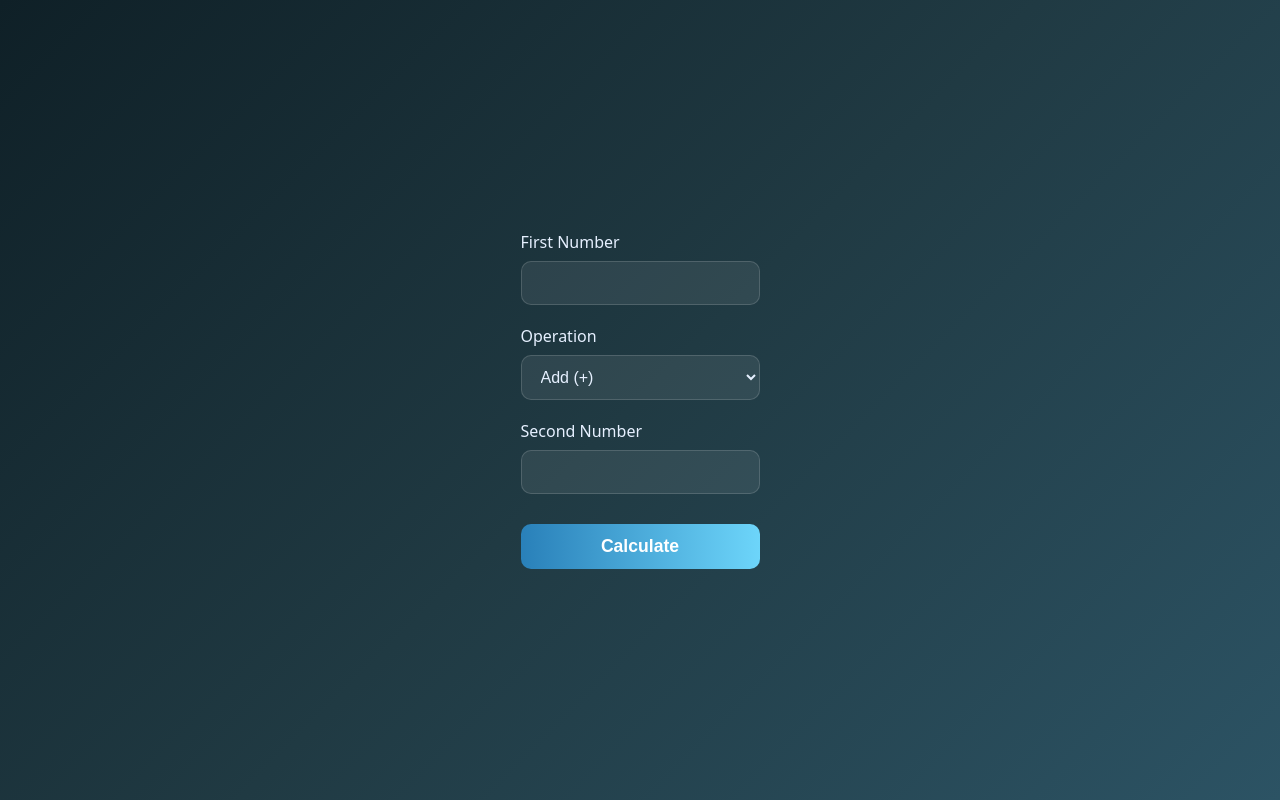
Test case: CalculatorTab › shows error notification on failed calculation
In the field labelled "First Number": (640, 283) left=520, top=261, right=760, bottom=305, type "3"
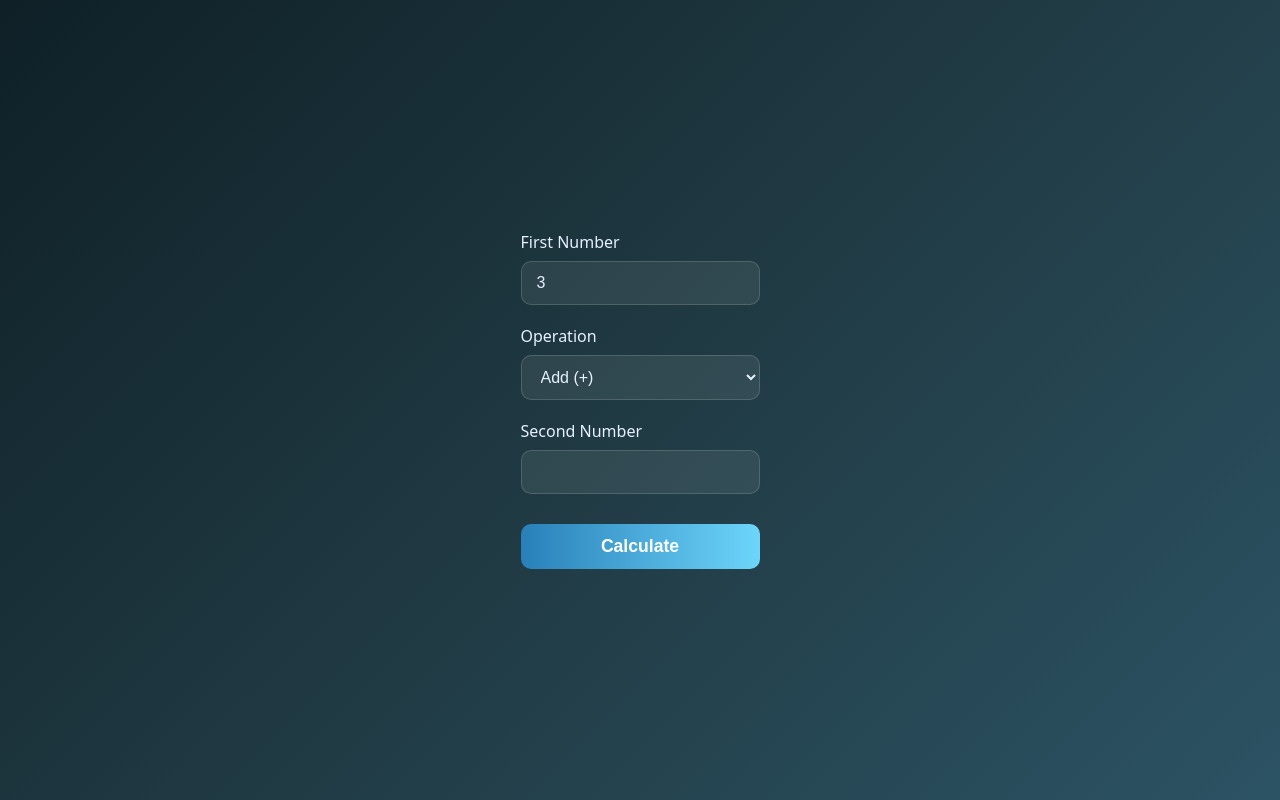
In the field labelled "Second Number": (640, 472) left=520, top=450, right=760, bottom=494, type "0"
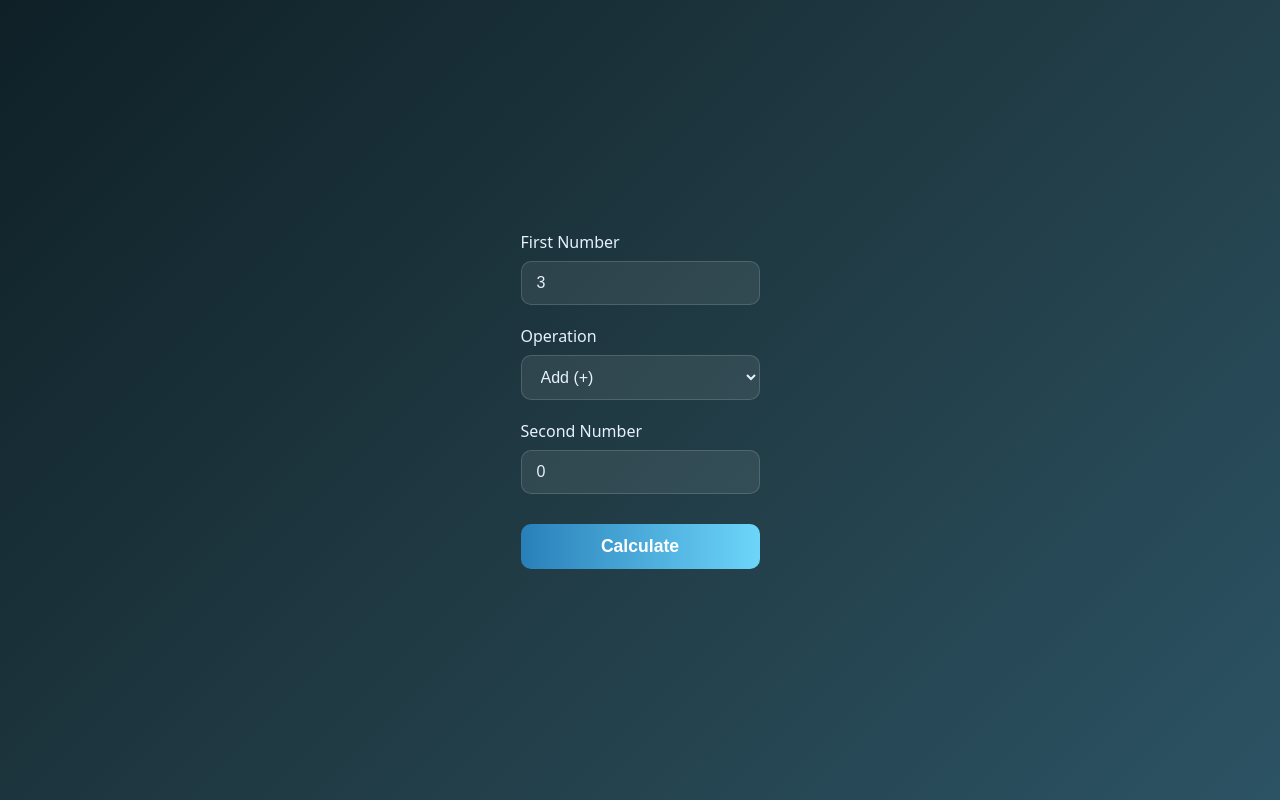
Select "Divide (÷)" in the dropdown labelled "Operation": (640, 378) left=520, top=355, right=760, bottom=400
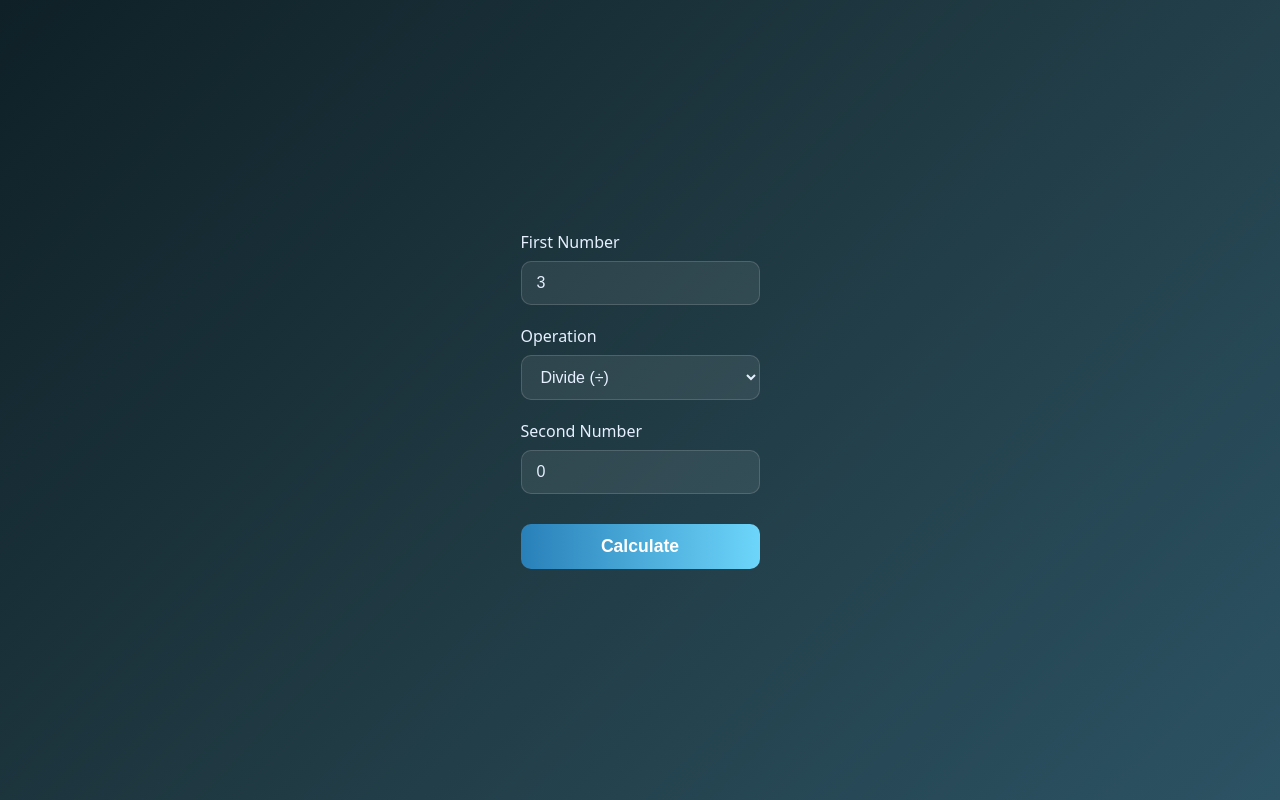
Click the button "Calculate": (640, 546) left=520, top=524, right=760, bottom=569
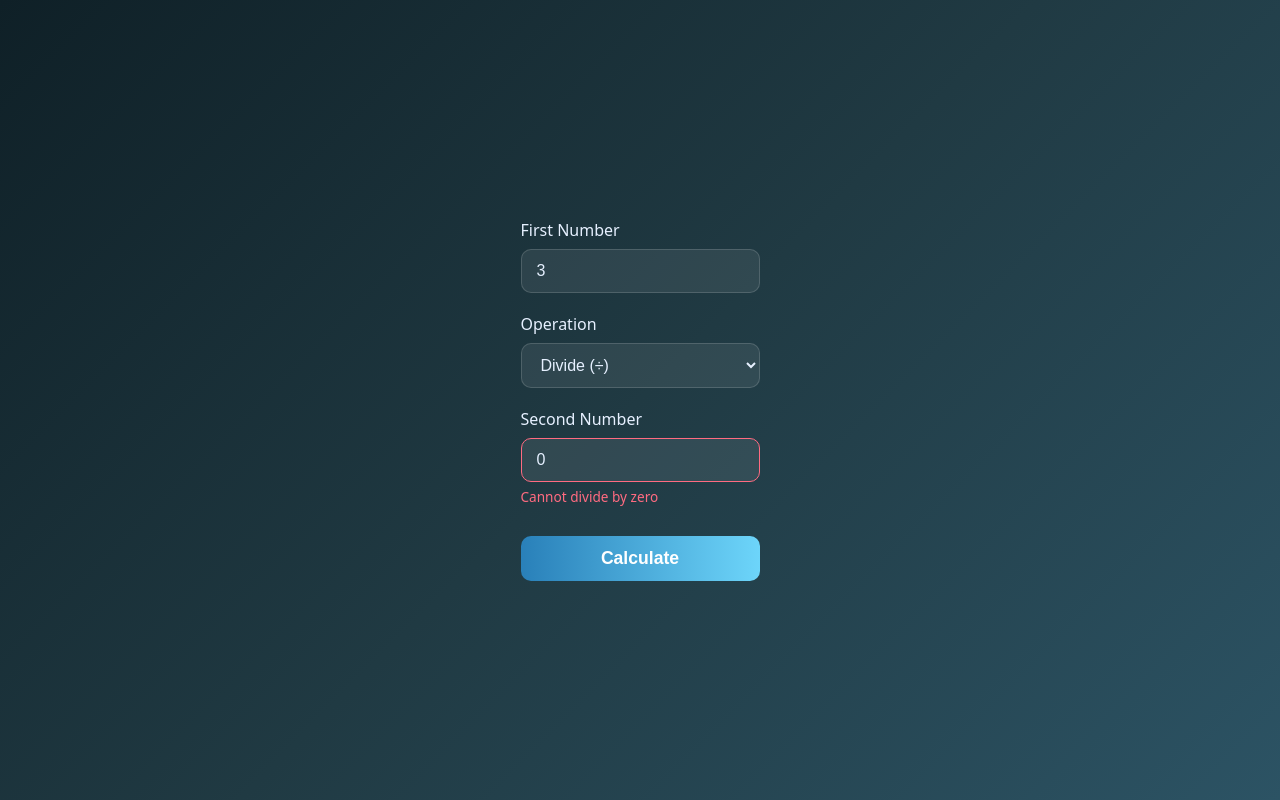
Result: the text "Cannot divide by zero" is shown at left=520, top=487, right=658, bottom=506
